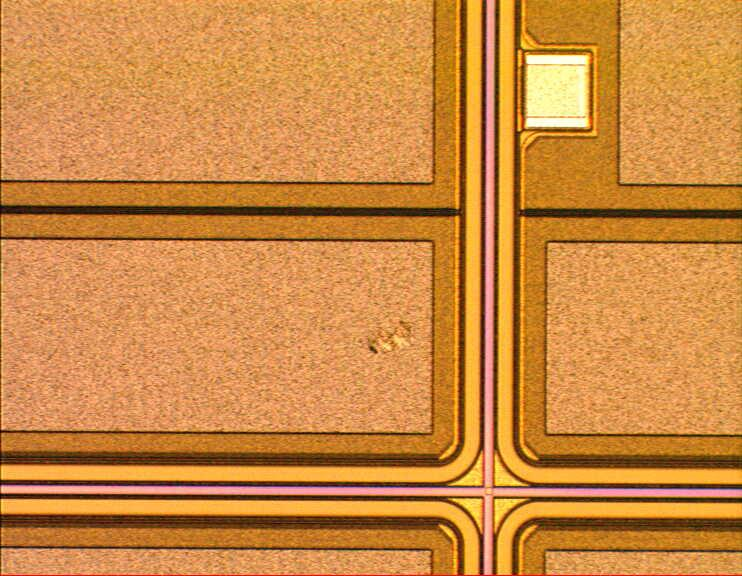SCRATCH: (362, 311, 420, 363)
